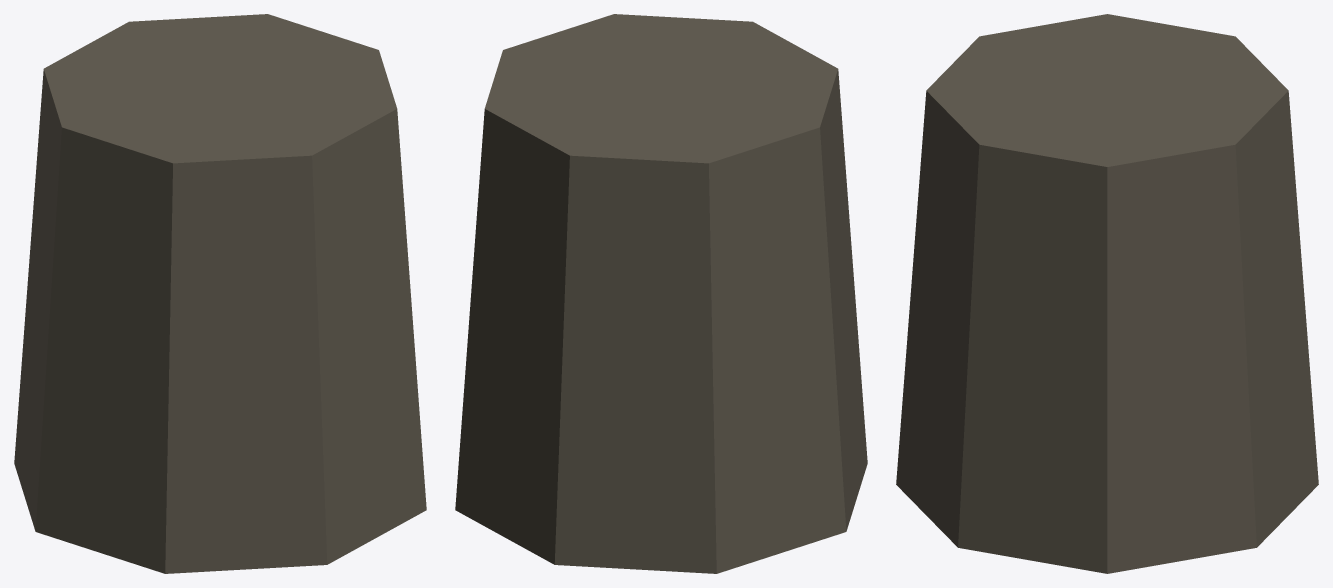
Rendered from prop_cauldron.glb.
3 renders of one model, left to right at view 1: azimuth 30°, elevation 25°; view 2: azimuth 150°, elevation 25°; view 3: azimuth 270°, elevation 25°, orthographic.
Visible parts, largest first — view 1: prop_cauldron; view 2: prop_cauldron; view 3: prop_cauldron.
Boxes of the visible parts, x1,y1,x2,y2 form: prop_cauldron: [14, 14, 426, 573]; prop_cauldron: [455, 14, 867, 573]; prop_cauldron: [896, 14, 1318, 573].
Bounding box in the file's own units: 0.7 × 0.72 × 0.7.
1 material, 1 textured.
